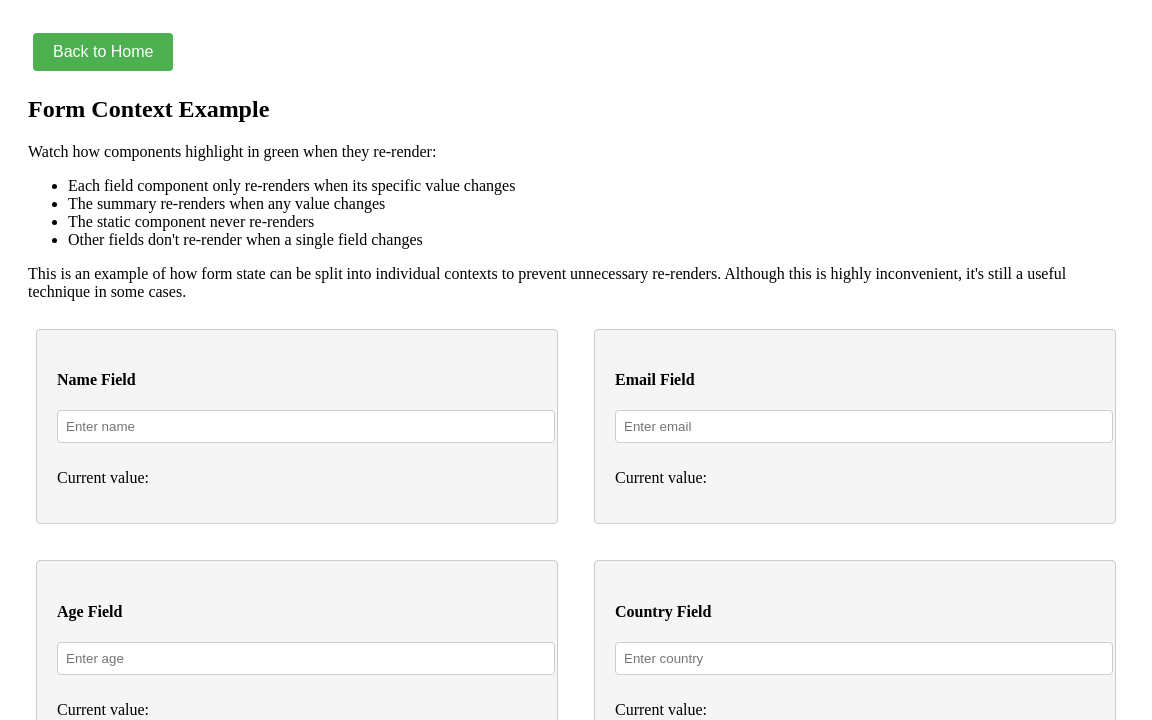
Test case: FormContextExample › updates form fields correctly
Test name field
Type "John Doe" into the field with placeholder "Enter name" at (306, 427), box x1=57 y1=410 x2=555 y2=443
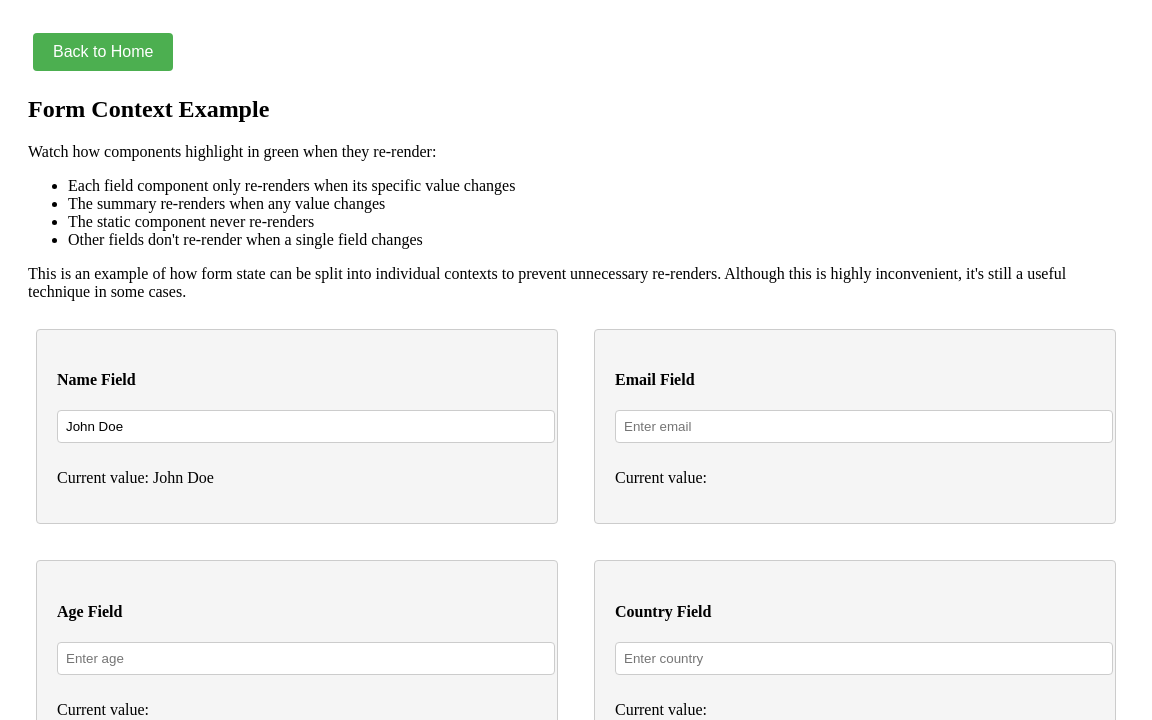
Expected: the text "Current value: John Doe" is shown, x1=57 y1=469 x2=214 y2=486
Test email field
Type "john@example.com" into the field with placeholder "Enter email" at (864, 427), box x1=615 y1=410 x2=1113 y2=443
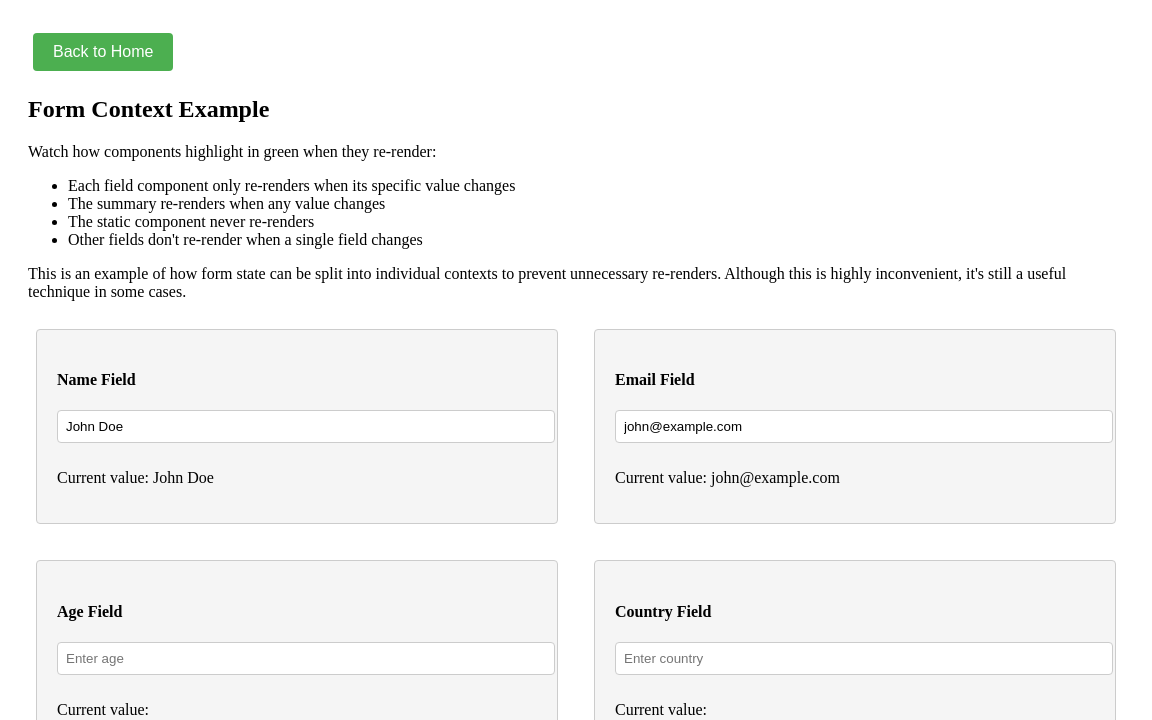
Expected: the text "Current value: john@example.com" is shown, x1=615 y1=469 x2=840 y2=486
Test age field
Type "25" into the number field with placeholder "Enter age" at (306, 658), box x1=57 y1=642 x2=555 y2=675
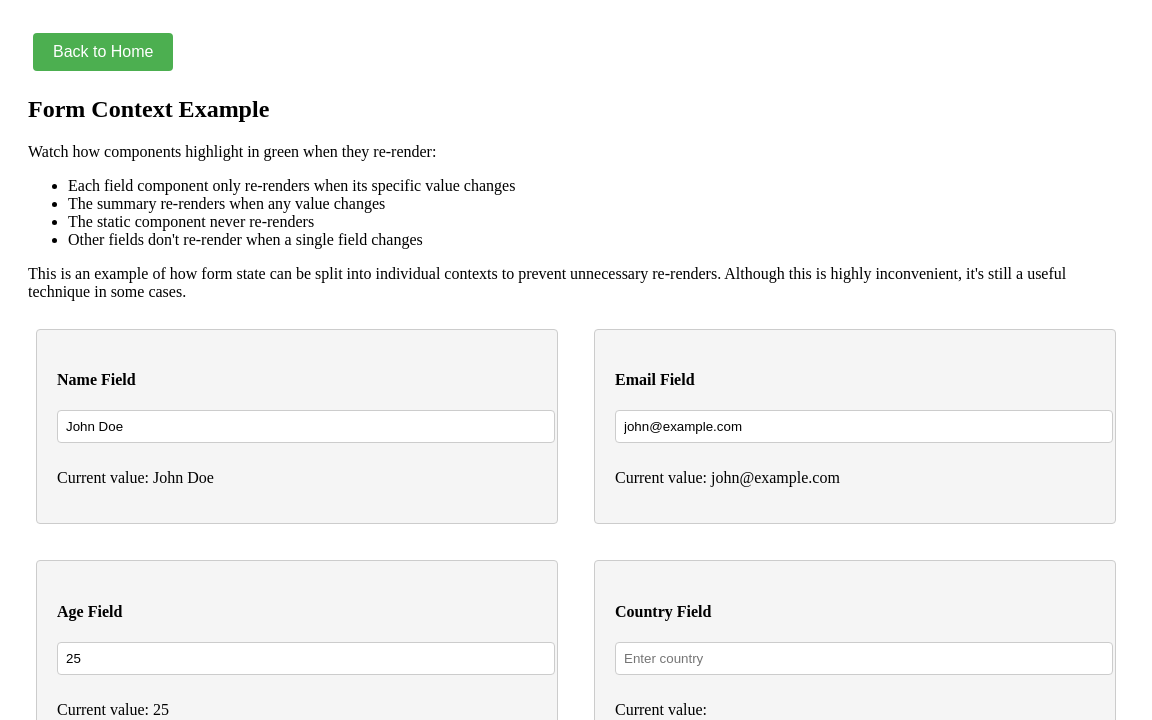
Expected: the text "Current value: 25" is shown, x1=57 y1=701 x2=169 y2=718
Test country field
Type "USA" into the field with placeholder "Enter country" at (864, 658), box x1=615 y1=642 x2=1113 y2=675
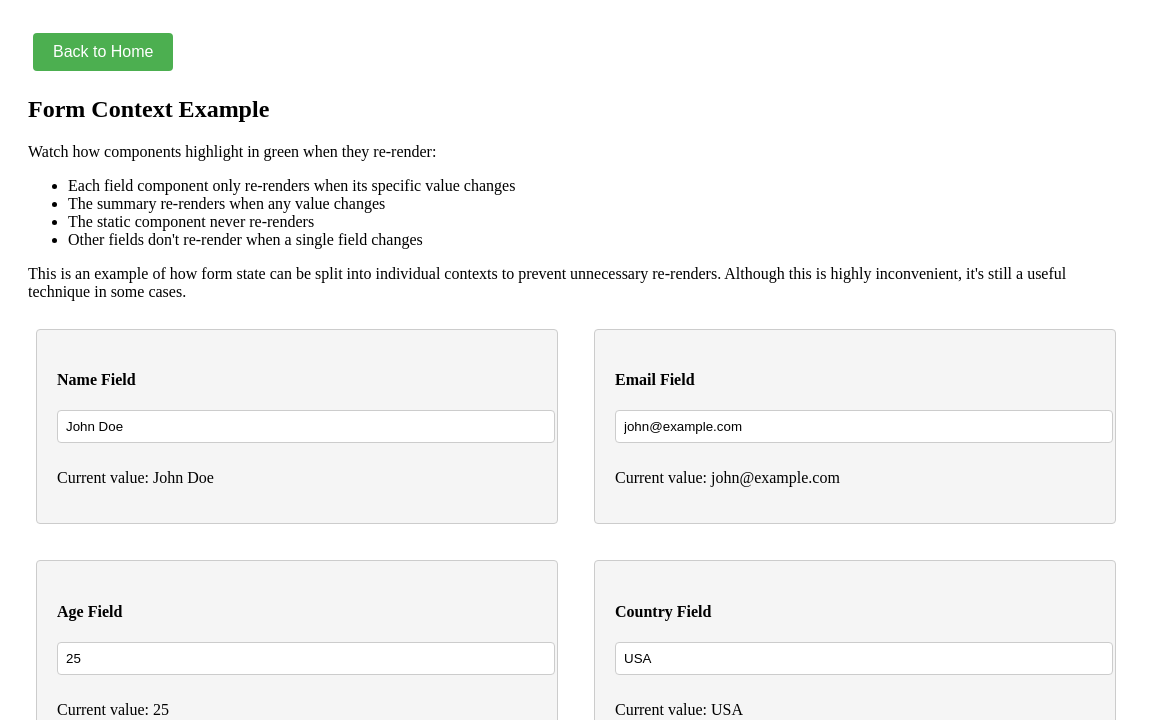
Expected: the text "Current value: USA" is shown, x1=615 y1=701 x2=743 y2=718
